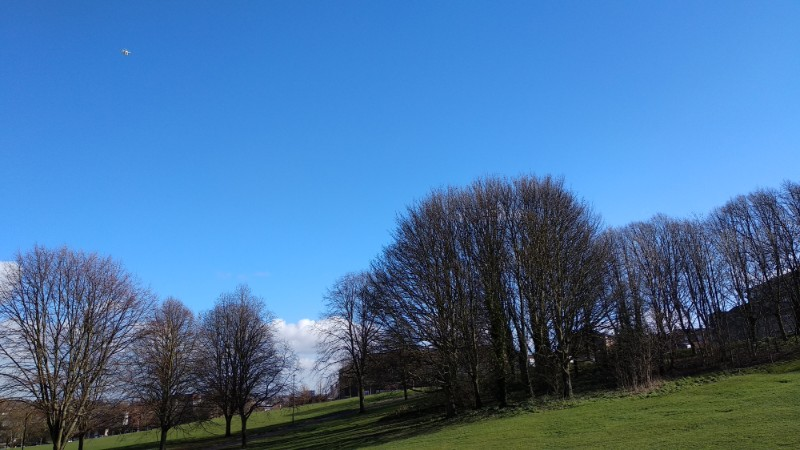drone: (119, 47, 132, 57)
